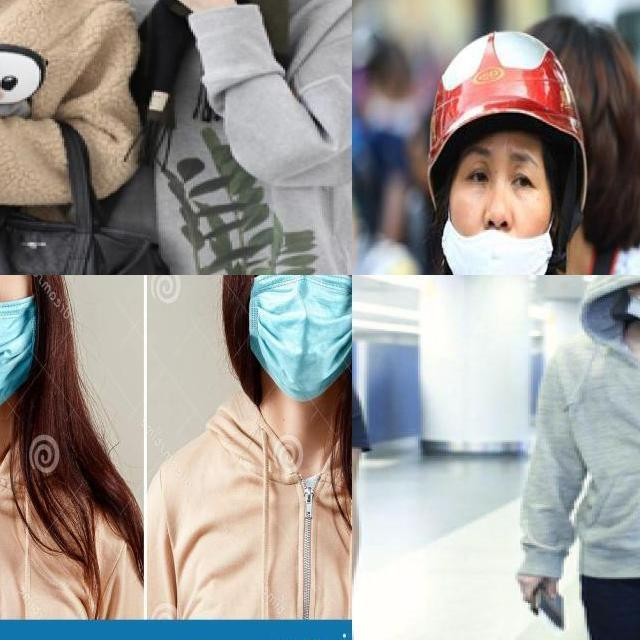hairnet: (451, 188, 544, 274)
